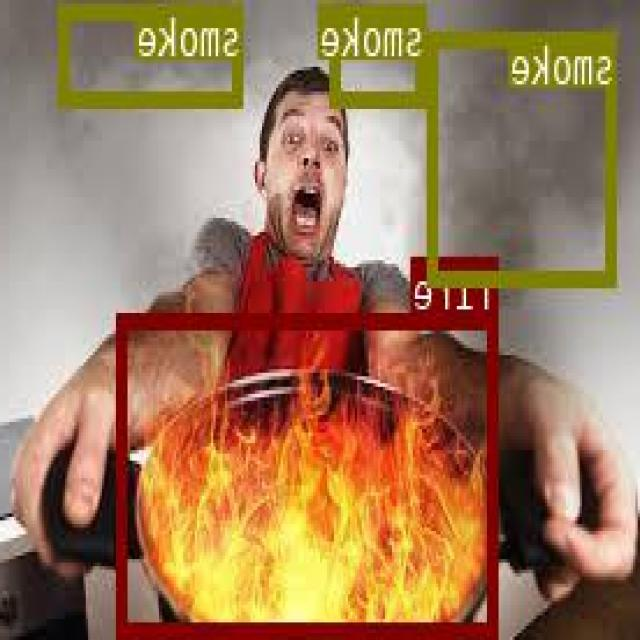fire: (120, 311, 501, 633)
smoke: (431, 30, 619, 283), (61, 3, 245, 102), (333, 2, 429, 104)
